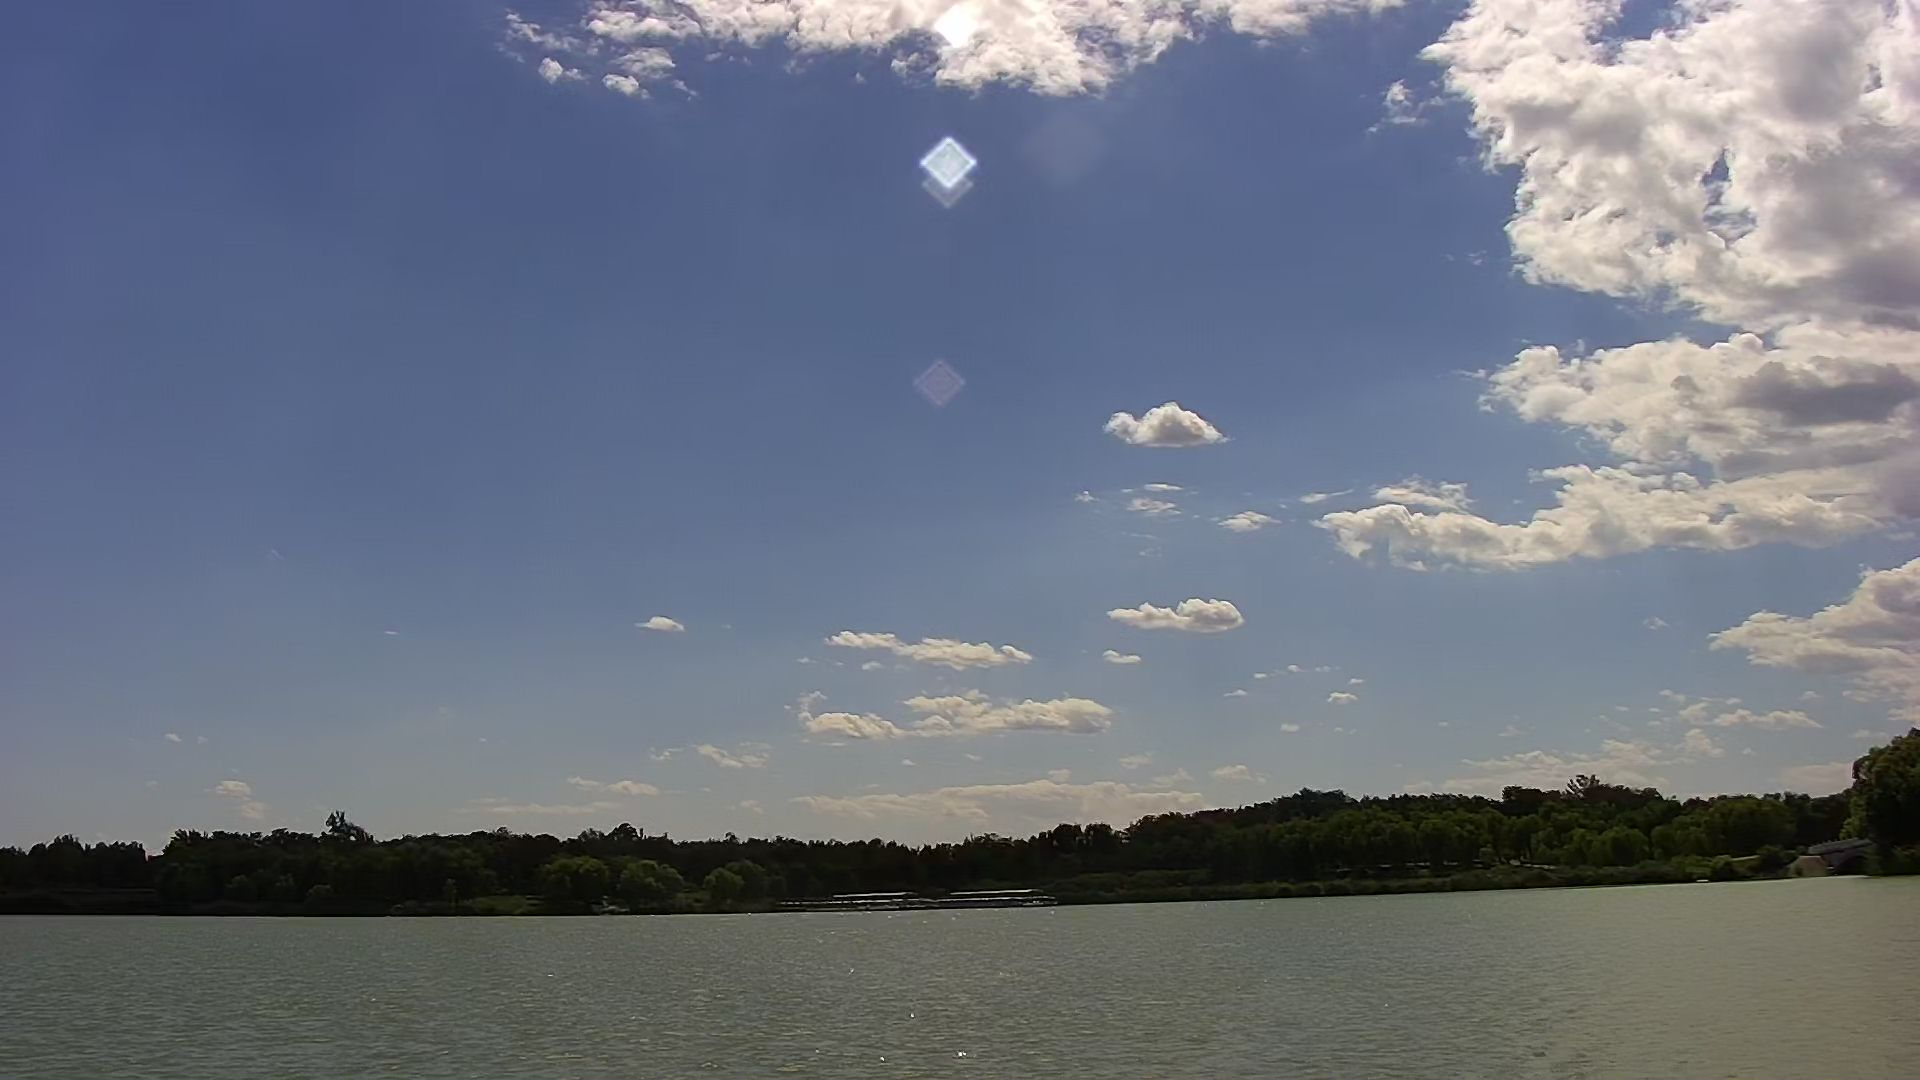harbor: (828, 889, 1035, 914)
